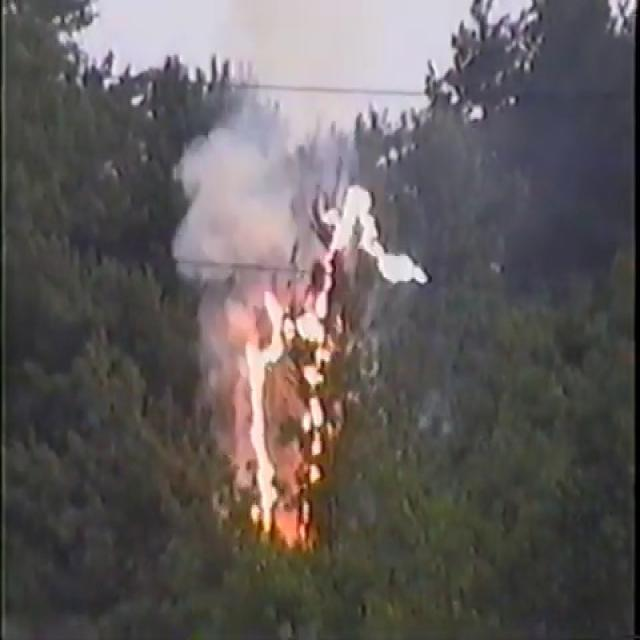Smoke: (167, 63, 344, 516)
